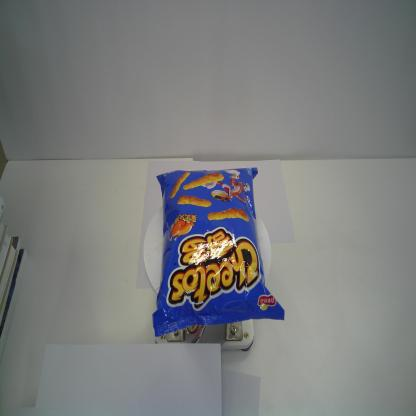Puffed Food: (152, 167, 285, 337)
